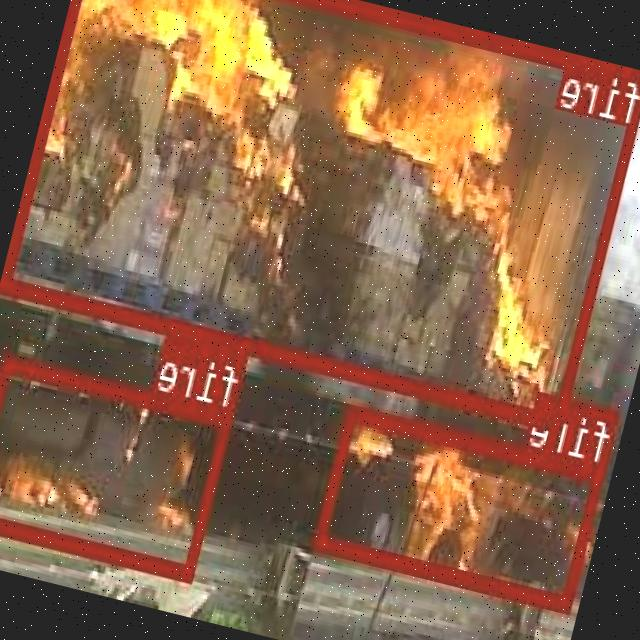fire: (3, 0, 640, 427), (316, 404, 608, 612), (0, 352, 237, 580)
